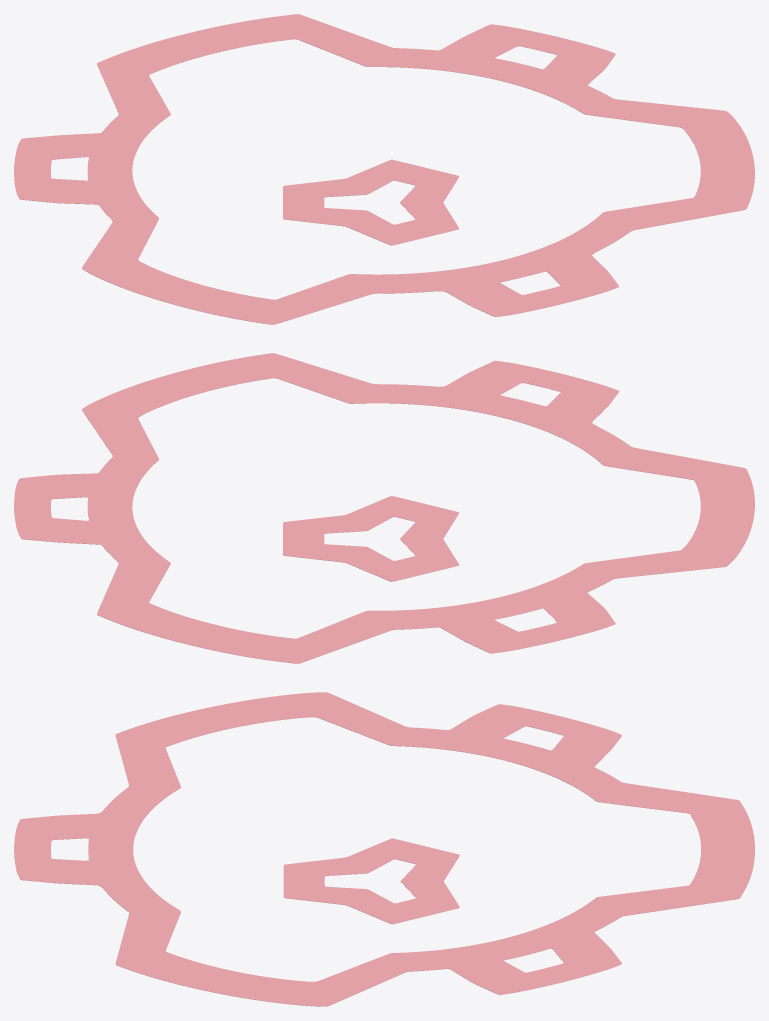
Rendered from Nodoka.fbx.
3 renders of one model, top to bottom at view 1: azimuth 30°, elevation 25°; view 2: azimuth 150°, elevation 25°; view 3: azimuth 270°, elevation 25°, orthographic.
Visible parts, largest first — view 1: ヘイロー.001; view 2: ヘイロー.001; view 3: ヘイロー.001.
Part boxes in pixels (bbox=[...]): ヘイロー.001: bbox=[14, 14, 754, 324]; ヘイロー.001: bbox=[14, 353, 754, 663]; ヘイロー.001: bbox=[14, 692, 754, 1006].
Size of the model in its own units: 30.99 by 1.48 by 30.87.
